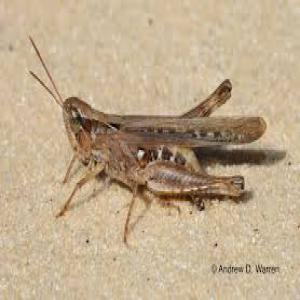locust: (39, 56, 266, 229)
